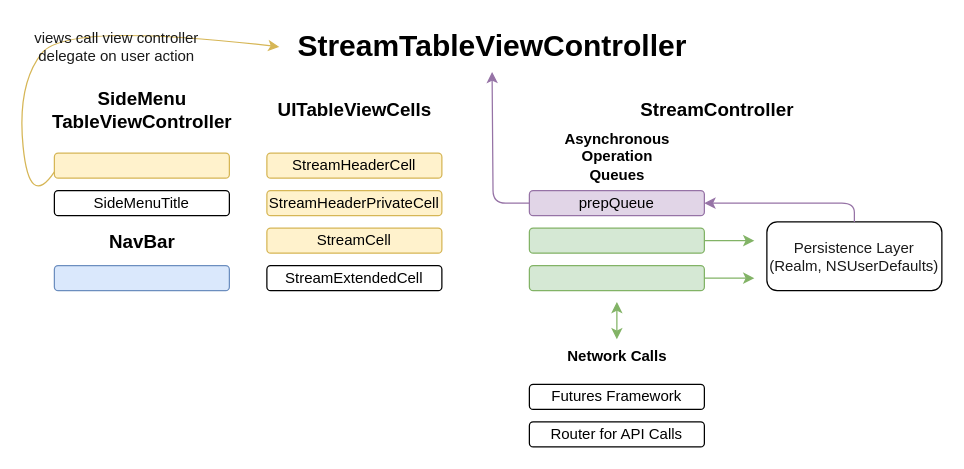
Some shapes in this 964 by 469 pixel diagram are drawn without their labels. The box of each missing label's shape, as (x1, y1, x2, y2) in pixels:
NavBarTitle: (53, 264, 229, 291)
refreshNetworkQueue: (528, 264, 704, 291)
SideMenuCell: (53, 152, 229, 178)
userNetworkQueue: (528, 227, 704, 253)
